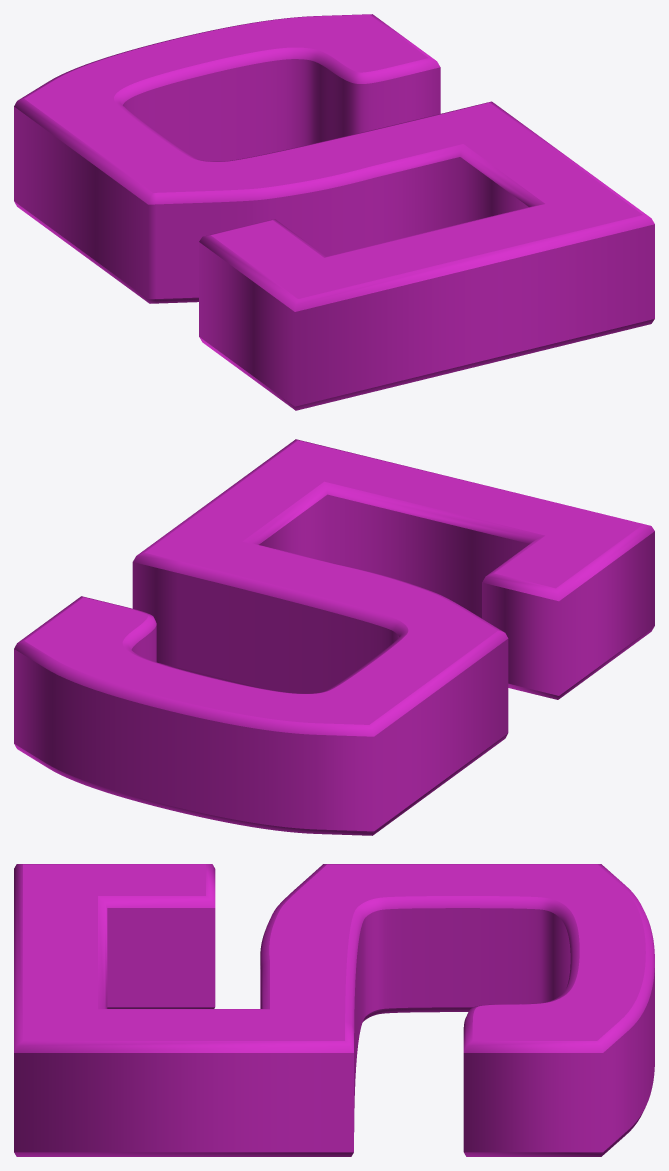
Rendered from Number_5_CoolFont.fbx.
3 views of the same model, one above another, from view 1: azimuth 30°, elevation 25°; view 2: azimuth 150°, elevation 25°; view 3: azimuth 270°, elevation 25° (orthographic). The views are drawn at different scales.
Visible parts, largest first — view 1: Number_5; view 2: Number_5; view 3: Number_5.
Boxes of the visible parts, x1=… form: Number_5: x1=14, y1=14, x2=654, y2=410; Number_5: x1=14, y1=439, x2=654, y2=835; Number_5: x1=14, y1=864, x2=654, y2=1156.
Bounding box in the file's own units: 0.4777 × 0.14 × 0.7024.
